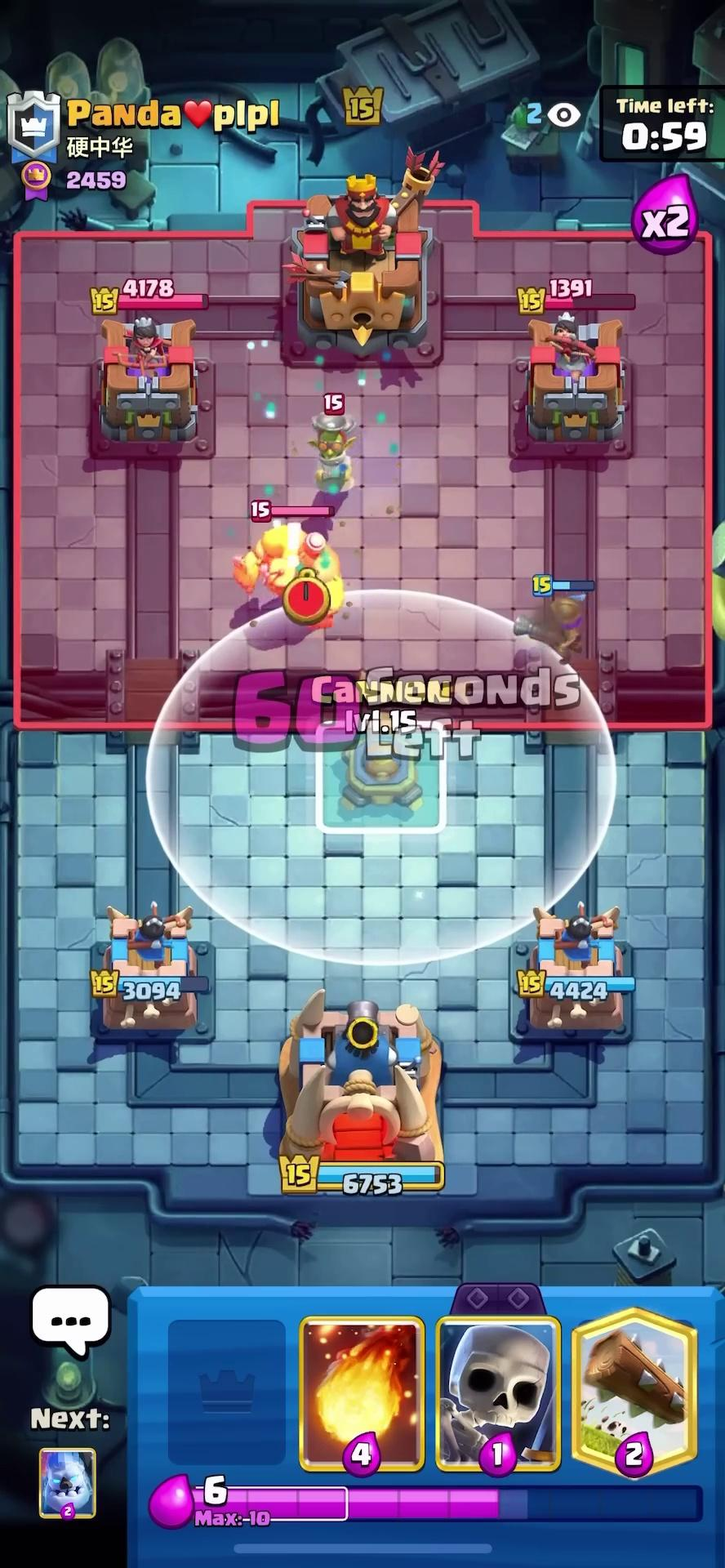musketeer: (514, 574, 600, 682)
